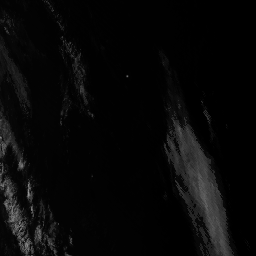Target: (125, 74, 130, 79)
